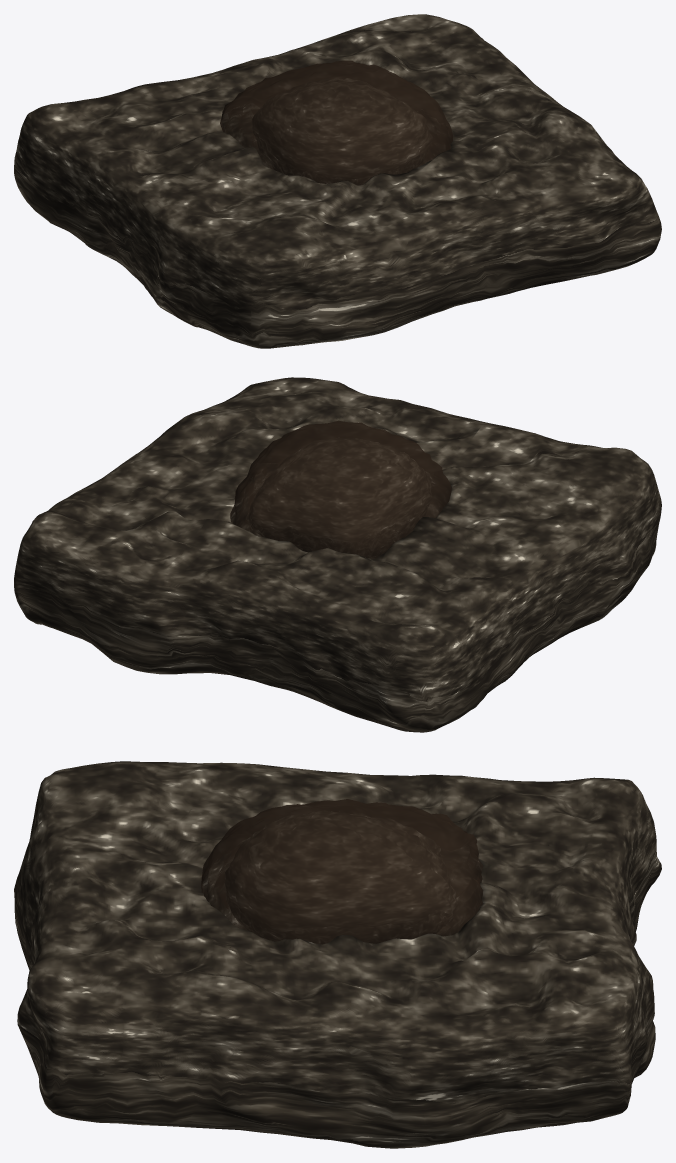
File: huroniospora_fossil_001.glb
3 views of the same model, one above another, from view 1: azimuth 30°, elevation 25°; view 2: azimuth 150°, elevation 25°; view 3: azimuth 270°, elevation 25° (orthographic). The views are drawn at different scales.
Visible parts, largest first — view 1: huroniospora chert 1, cell wall fossilized, citoplasm fossilized; view 2: huroniospora chert 1, cell wall fossilized, citoplasm fossilized; view 3: huroniospora chert 1, cell wall fossilized, citoplasm fossilized.
Part boxes in pixels (left/top/right/bottom): huroniospora chert 1: left=14, top=14, right=661, bottom=348; cell wall fossilized: left=220, top=60, right=452, bottom=185; citoplasm fossilized: left=252, top=78, right=432, bottom=184; huroniospora chert 1: left=14, top=377, right=661, bottom=732; cell wall fossilized: left=230, top=420, right=451, bottom=559; citoplasm fossilized: left=249, top=438, right=431, bottom=557; huroniospora chert 1: left=14, top=761, right=661, bottom=1148; cell wall fossilized: left=201, top=799, right=483, bottom=944; citoplasm fossilized: left=225, top=810, right=456, bottom=943.
Size of the model in its own units: 24.32 by 8.22 by 23.41.
2 materials, 1 textured.
